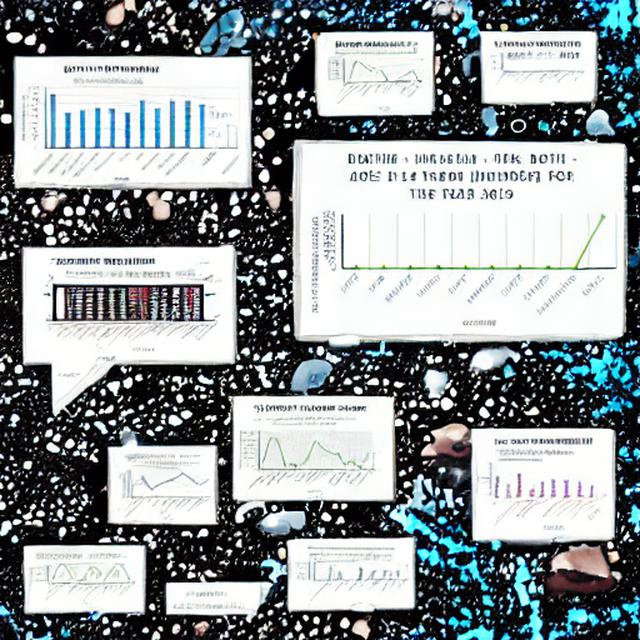Graph: (302, 145, 622, 333), (19, 76, 198, 183), (235, 414, 374, 497), (324, 49, 425, 111), (120, 461, 212, 518), (478, 456, 561, 505)
